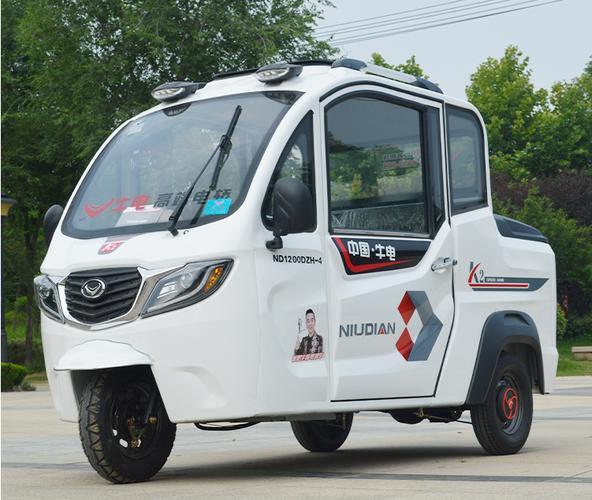empty: (53, 45, 585, 480)
